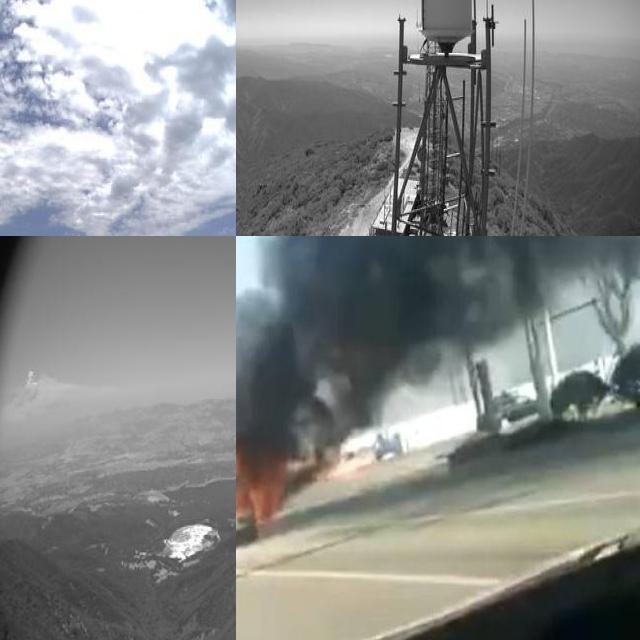fire: (236, 440, 285, 560)
smoke: (236, 236, 640, 441)
